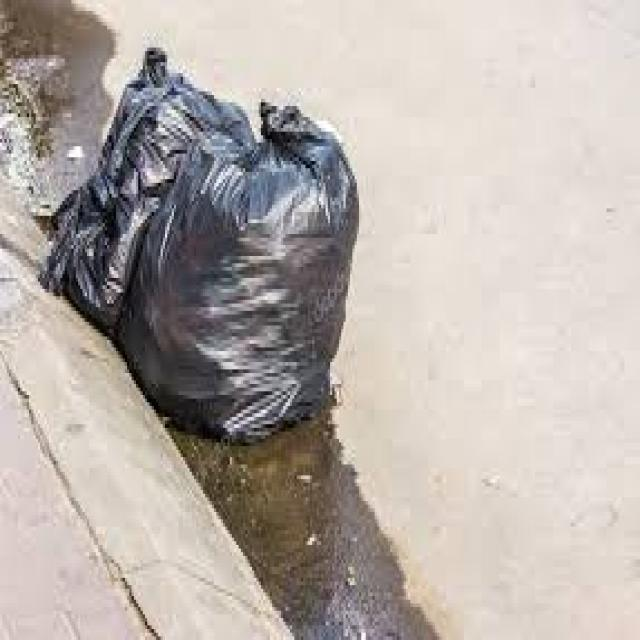plastic_bag: (140, 107, 363, 396), (44, 45, 180, 286)
